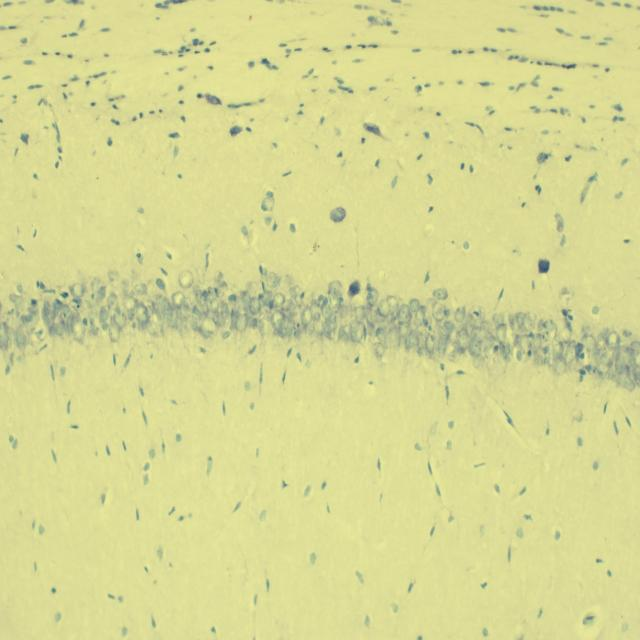neuron: (8, 292, 34, 318), (66, 312, 86, 343), (152, 294, 172, 320), (598, 350, 614, 379), (616, 344, 630, 374), (59, 304, 72, 333), (541, 319, 557, 342), (146, 312, 162, 334), (552, 354, 568, 376), (123, 295, 137, 318), (279, 315, 293, 337), (288, 286, 302, 308), (346, 315, 360, 337), (69, 282, 86, 300), (200, 317, 216, 336), (520, 333, 532, 358), (108, 322, 122, 343), (258, 315, 272, 336), (240, 287, 257, 304), (470, 326, 487, 343), (15, 328, 28, 350), (29, 309, 40, 335), (456, 328, 469, 350), (271, 310, 285, 330), (377, 298, 391, 318), (432, 301, 446, 321), (522, 311, 536, 331), (606, 330, 620, 350), (136, 304, 149, 325), (386, 295, 399, 316), (385, 326, 400, 344), (404, 331, 419, 349), (235, 314, 249, 333), (396, 304, 410, 323), (530, 334, 542, 356), (207, 306, 220, 326), (466, 311, 476, 337), (513, 311, 526, 331), (0, 322, 9, 350), (114, 310, 128, 328), (179, 270, 193, 288), (272, 292, 286, 310), (496, 323, 508, 344), (582, 335, 596, 353), (469, 339, 482, 358), (565, 341, 576, 363), (133, 283, 149, 298), (548, 341, 564, 356), (232, 296, 246, 313), (596, 328, 610, 345), (366, 288, 379, 306), (167, 309, 178, 330), (348, 280, 360, 299), (499, 341, 511, 360), (266, 272, 280, 288), (372, 342, 386, 358), (172, 292, 185, 309), (313, 318, 326, 335), (370, 311, 383, 328), (559, 326, 572, 343), (301, 306, 312, 326), (425, 333, 435, 355), (507, 312, 517, 334), (95, 286, 107, 304), (143, 299, 155, 317), (186, 314, 198, 332), (206, 295, 218, 313), (249, 297, 261, 315), (321, 303, 333, 321), (354, 304, 366, 322), (90, 277, 104, 292), (417, 346, 432, 360), (259, 290, 272, 306), (284, 299, 297, 315), (108, 292, 120, 309), (108, 270, 120, 287), (174, 316, 184, 336), (416, 304, 426, 324), (366, 320, 377, 338), (442, 320, 453, 338), (431, 288, 449, 299), (629, 340, 640, 358), (328, 280, 342, 294), (479, 320, 493, 334), (52, 321, 65, 336), (492, 312, 505, 327), (98, 306, 110, 322), (309, 303, 321, 319), (338, 324, 350, 340), (454, 306, 466, 322), (196, 288, 206, 307), (220, 300, 229, 321), (329, 310, 338, 331), (447, 349, 461, 362), (181, 304, 191, 322), (337, 304, 349, 319), (330, 294, 340, 312), (355, 322, 365, 340), (398, 322, 410, 337), (624, 377, 636, 392), (42, 299, 53, 315), (193, 304, 204, 320), (120, 277, 128, 298), (398, 312, 412, 324), (438, 337, 447, 355), (376, 326, 386, 342), (156, 278, 167, 292), (575, 342, 584, 359), (409, 298, 419, 312), (213, 286, 224, 298), (417, 324, 428, 336), (324, 323, 332, 338), (472, 357, 482, 369), (537, 317, 544, 333), (214, 270, 222, 283), (486, 336, 494, 349), (221, 330, 231, 340), (292, 328, 300, 338), (622, 329, 632, 337)
